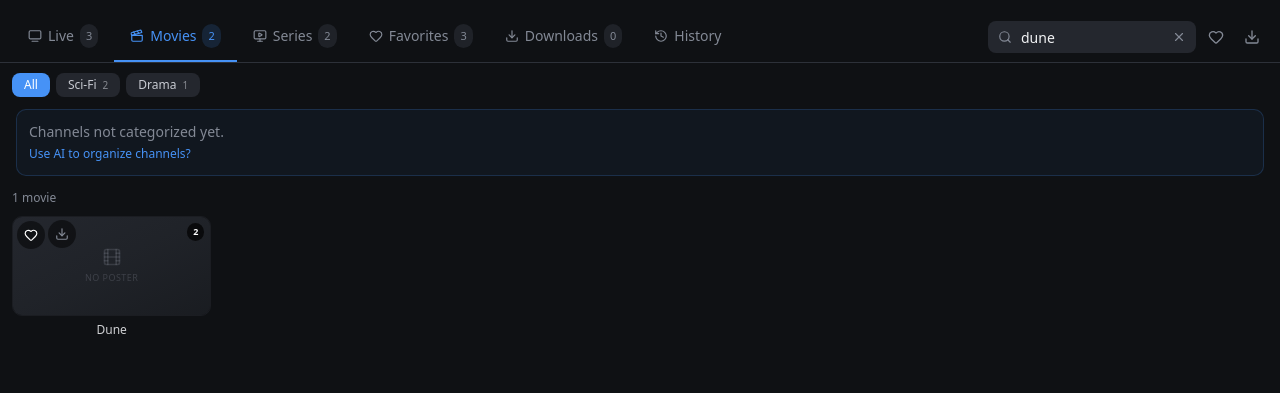
Scenario: ChannelList search › points at the active filter when a filtered search finds nothing
The image size is (1280, 393).
Click the button named "Show favorites only" at (1216, 37), box x1=1200 y1=21 x2=1232 y2=53
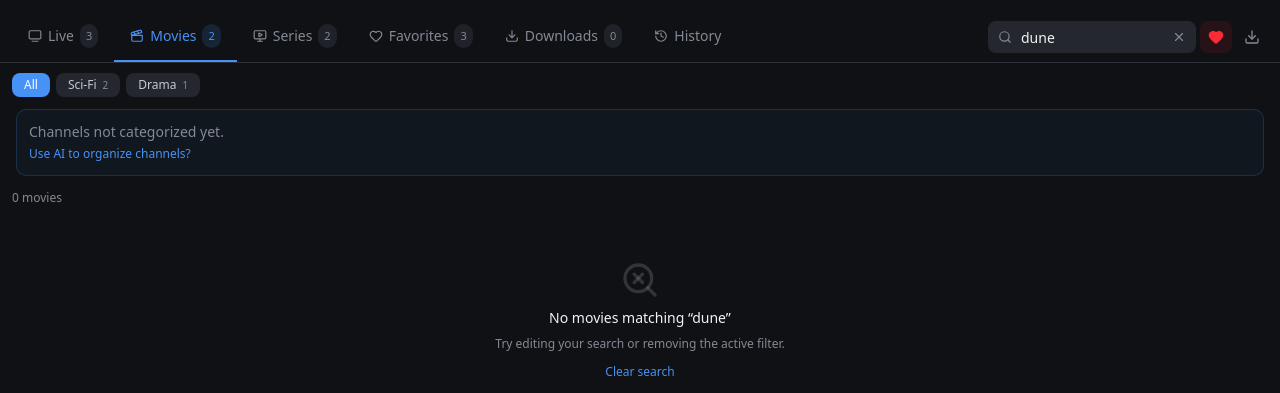
Check: the text "No movies matching “dune”" is shown, box x1=549 y1=308 x2=731 y2=328
Check: the text "Try editing your search or removing the active filter." is shown, box x1=495 y1=336 x2=785 y2=352
